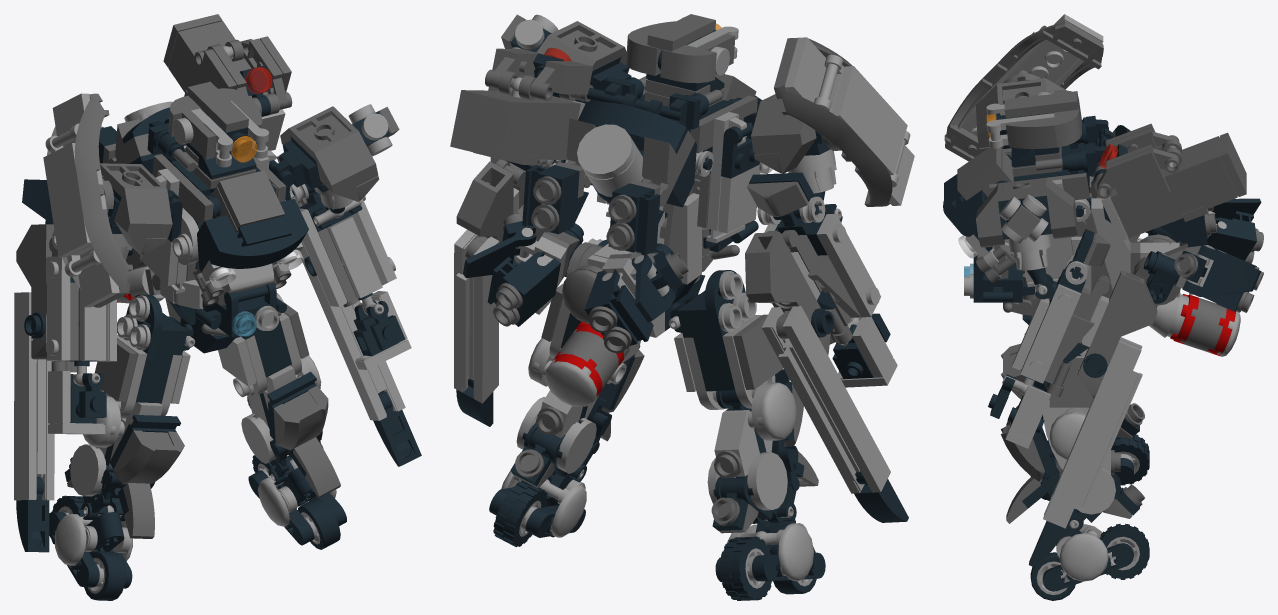
Rendered from ag-01s-brynhildr.dae.
3 views of the same model, side by side, from view 1: azimuth 30°, elevation 25°; view 2: azimuth 150°, elevation 25°; view 3: azimuth 270°, elevation 25° (orthographic). The views are drawn at different scales.
Bounding box in the file's own units: 351 × 262 × 431.
